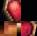heart: (0, 0, 21, 21), (21, 21, 37, 36)
sword: (21, 0, 37, 21)
